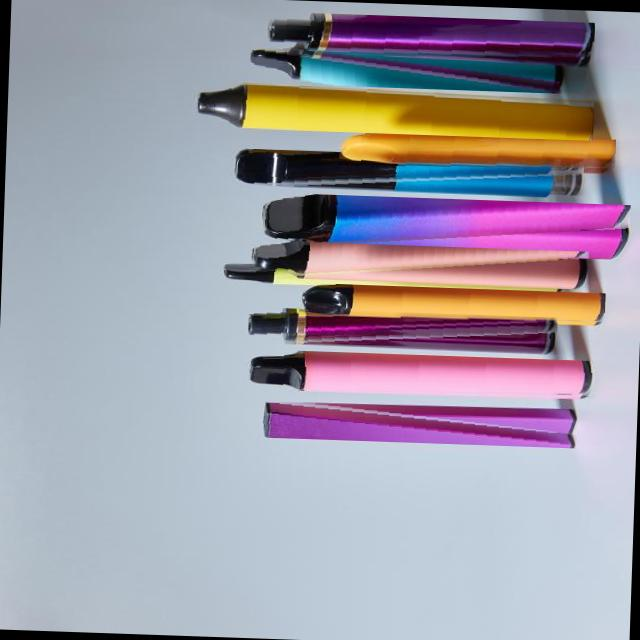Hazard: (258, 191, 630, 260), (194, 80, 594, 140), (232, 146, 584, 198), (264, 10, 594, 65), (249, 347, 594, 399), (250, 238, 588, 290), (260, 396, 578, 447), (250, 42, 564, 92), (246, 306, 557, 354), (298, 281, 605, 325), (338, 128, 616, 174)
